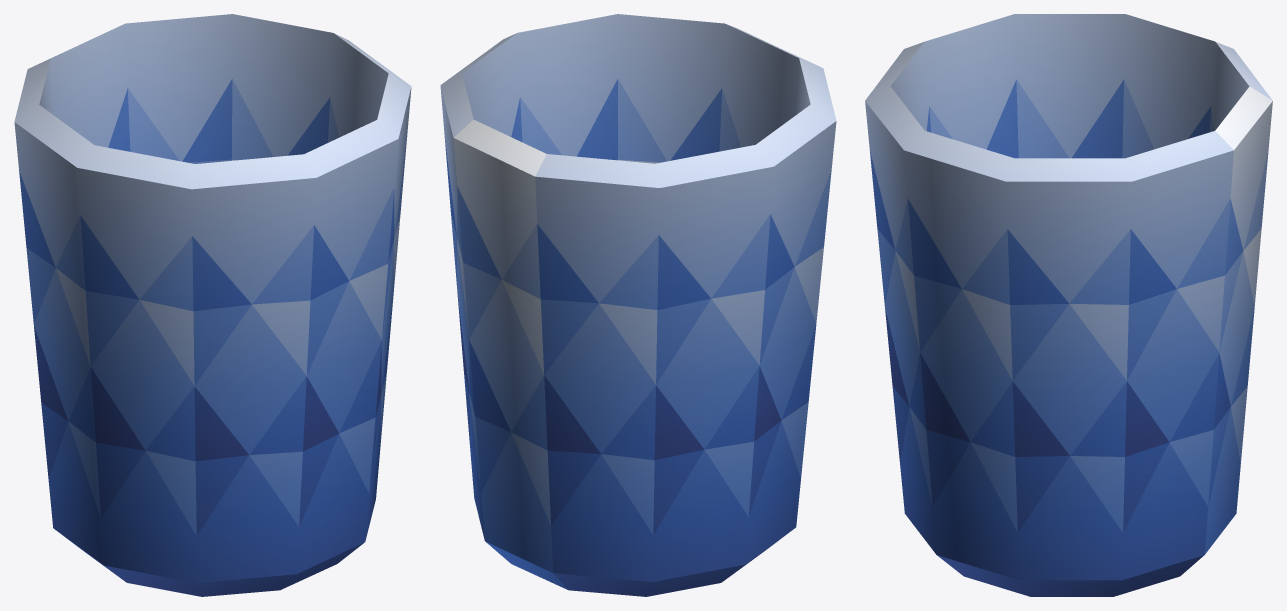
File: m_Glass10.fbx
3 views of the same model, side by side, from view 1: azimuth 30°, elevation 25°; view 2: azimuth 150°, elevation 25°; view 3: azimuth 270°, elevation 25° (orthographic).
Visible parts, largest first — view 1: m_Glass10; view 2: m_Glass10; view 3: m_Glass10.
Part boxes in pixels (box(x1,y1,x2,y2)): m_Glass10: box(14, 14, 411, 596); m_Glass10: box(440, 14, 836, 596); m_Glass10: box(865, 14, 1272, 596).
Bounding box in the file's own units: 12.35 × 16 × 12.98.
